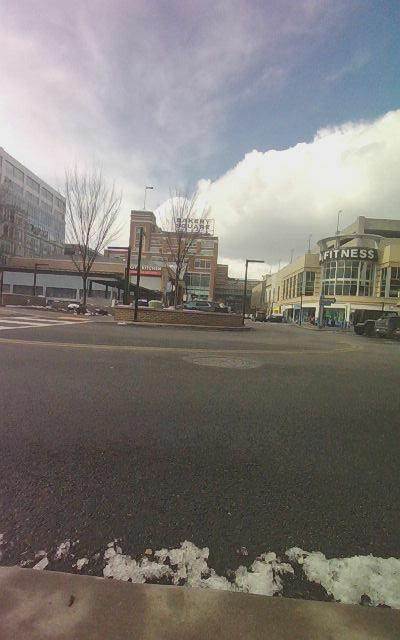curb: (0, 567, 399, 639)
road: (0, 315, 399, 608)
